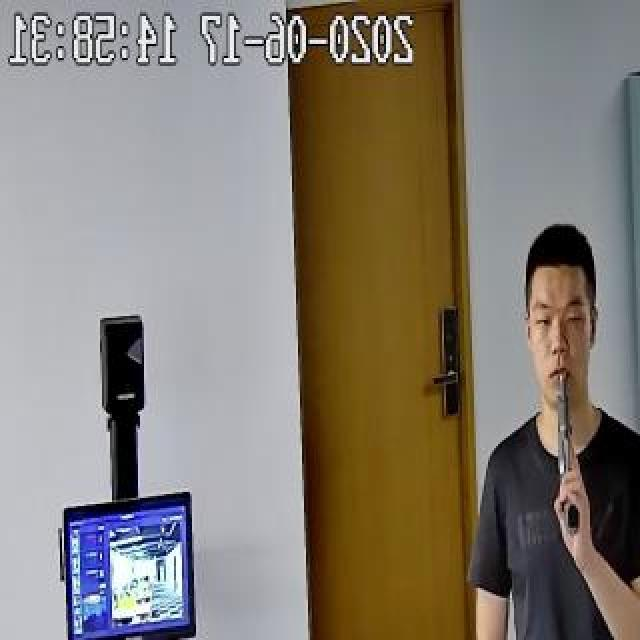Guns: (544, 356, 586, 534)
